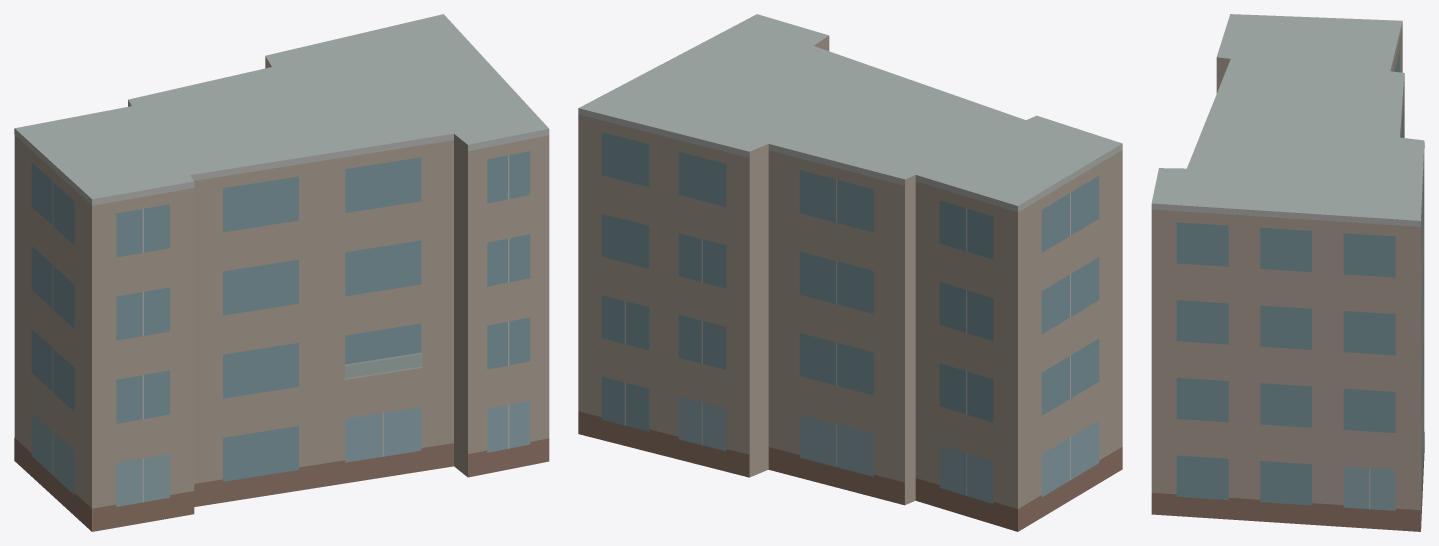
The model's file is survey-upis-32614348.glb.
The picture shows the model from 3 angles, left to right: view 1: azimuth 30°, elevation 25°; view 2: azimuth 150°, elevation 25°; view 3: azimuth 270°, elevation 25°; orthographic projection. The views are drawn at different scales.
Parts seen in each view (by area): view 1: survey-upis-32614348.tmp; view 2: survey-upis-32614348.tmp; view 3: survey-upis-32614348.tmp.
Part boxes in pixels (x1=…): survey-upis-32614348.tmp: x1=14, y1=14, x2=549, y2=531; survey-upis-32614348.tmp: x1=578, y1=14, x2=1122, y2=531; survey-upis-32614348.tmp: x1=1151, y1=14, x2=1424, y2=531.
Size of the model in its own units: 17.99 by 12.6 by 10.03.
